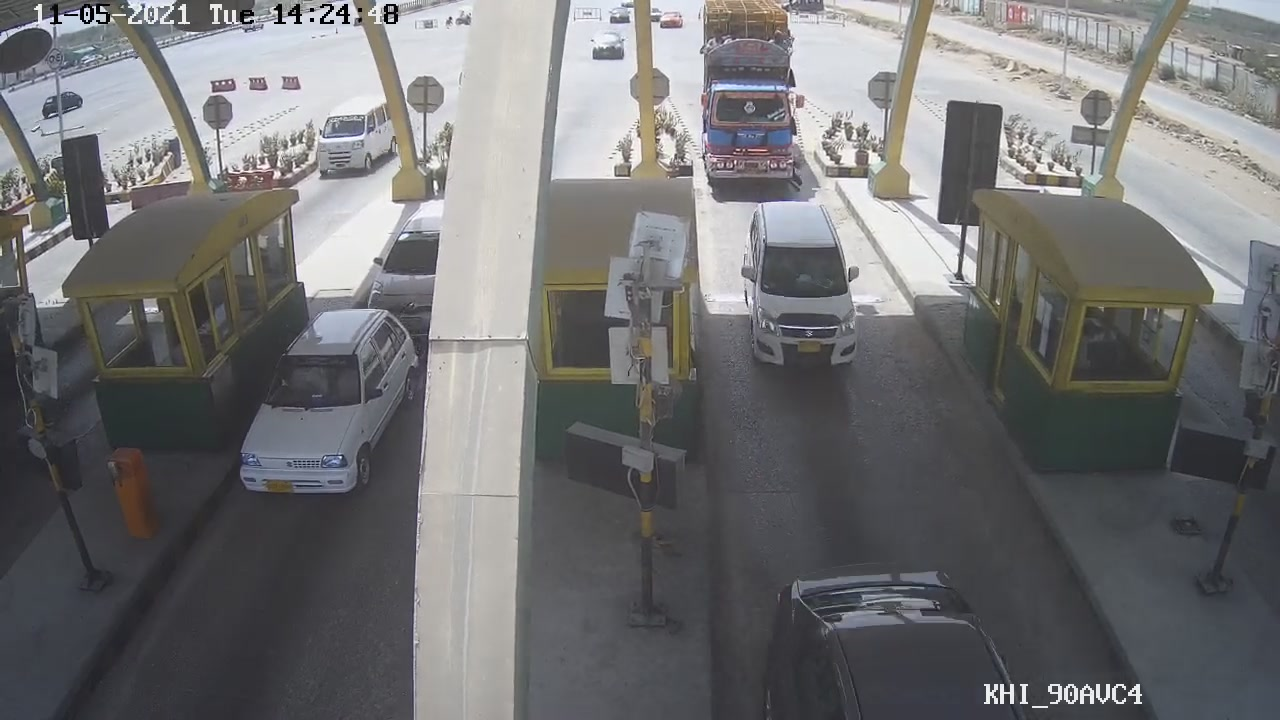F1: (739, 198, 863, 378)
